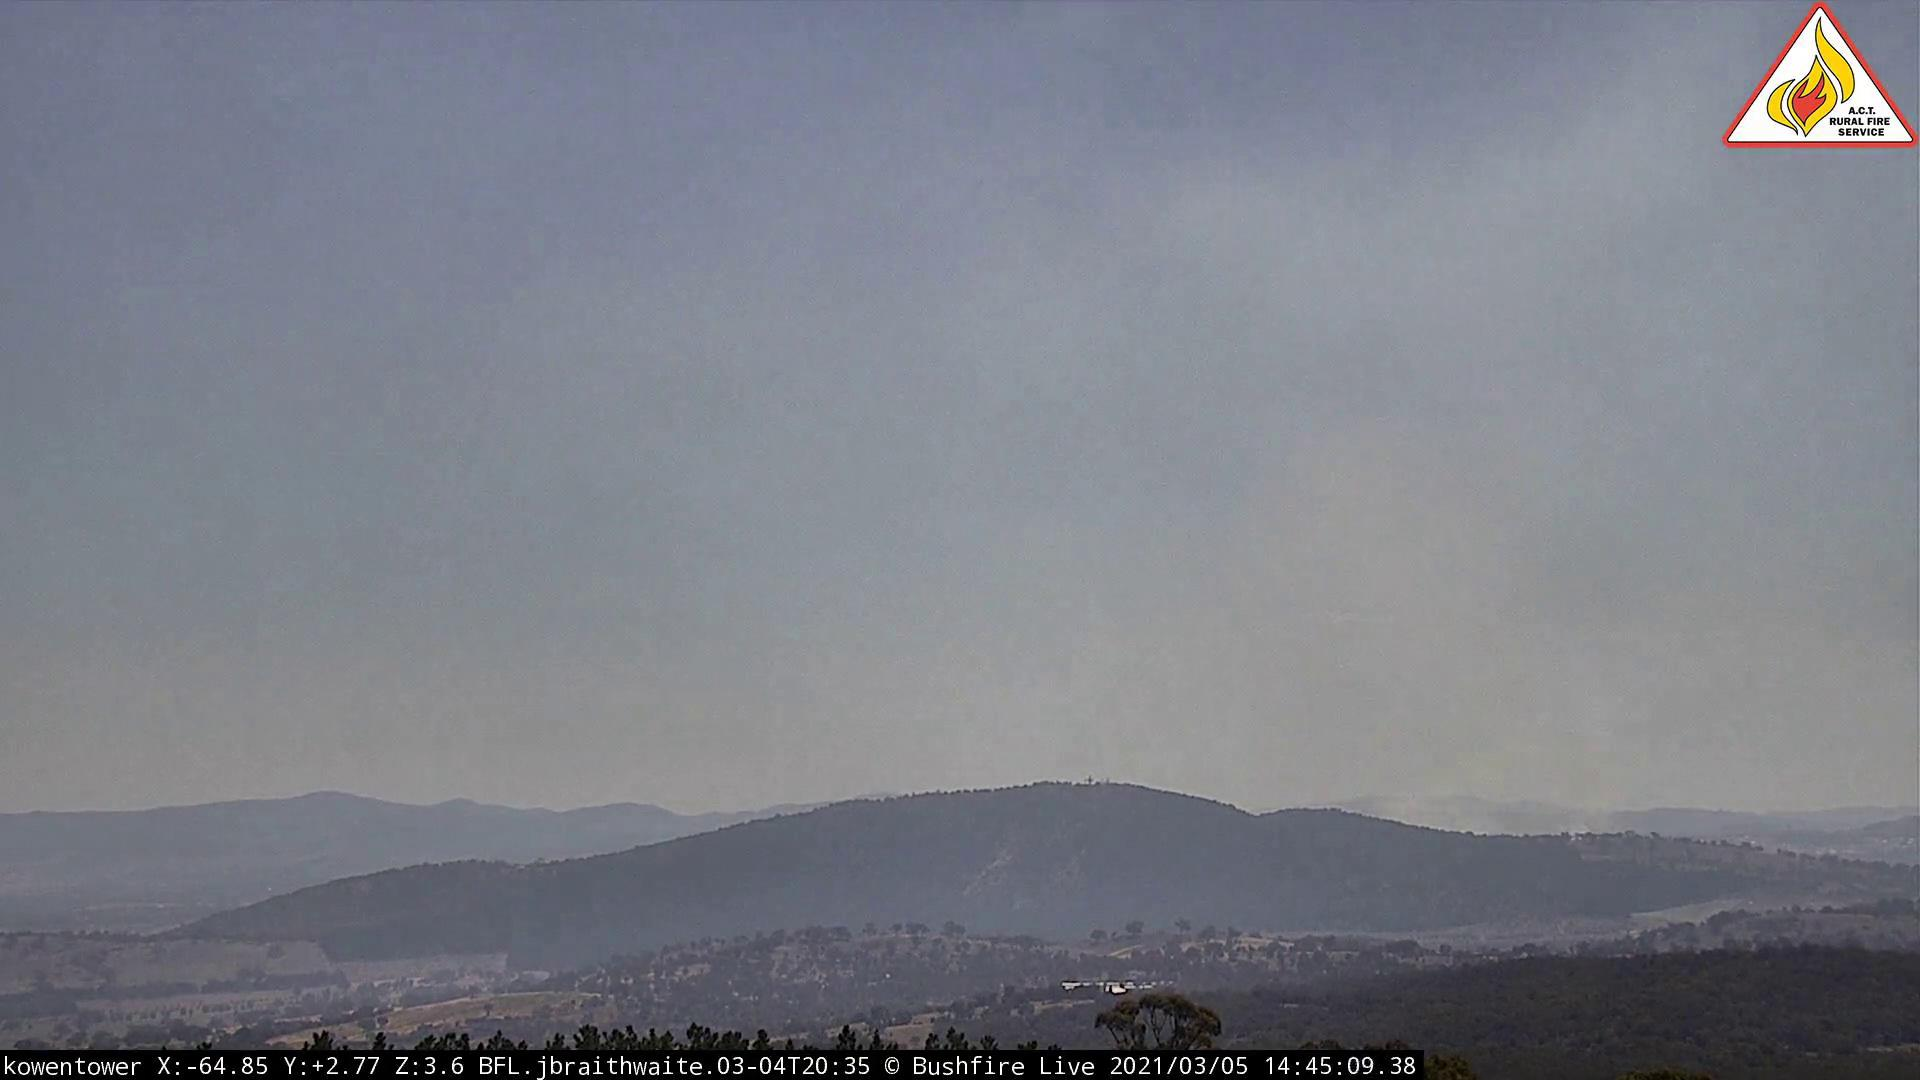Smoke: (1191, 456, 1625, 852)
